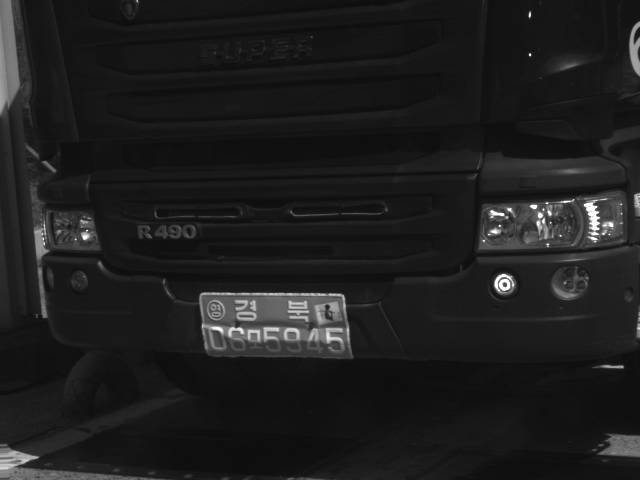car: (11, 1, 639, 398)
plate: (198, 290, 354, 361)
